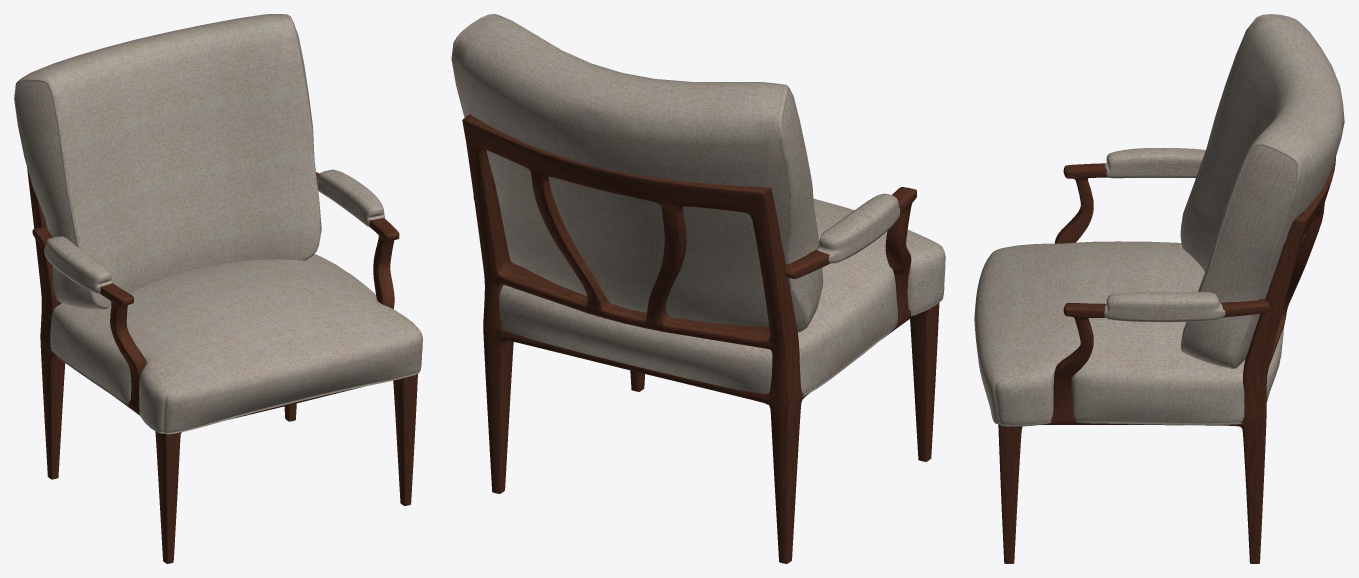
3 views of the same model, side by side, from view 1: azimuth 30°, elevation 25°; view 2: azimuth 150°, elevation 25°; view 3: azimuth 270°, elevation 25° (orthographic). The views are drawn at different scales.
Parts seen in each view (by area): view 1: Cushion Chair_0; view 2: Cushion Chair_0; view 3: Cushion Chair_0.
Boxes of the visible parts, x1,y1,x2,y2 form: Cushion Chair_0: (14, 14, 422, 563); Cushion Chair_0: (451, 14, 945, 563); Cushion Chair_0: (974, 14, 1344, 563).
Size of the model in its own units: 0.0776 by 0.0985 by 0.0782.
1 material, 1 textured.
